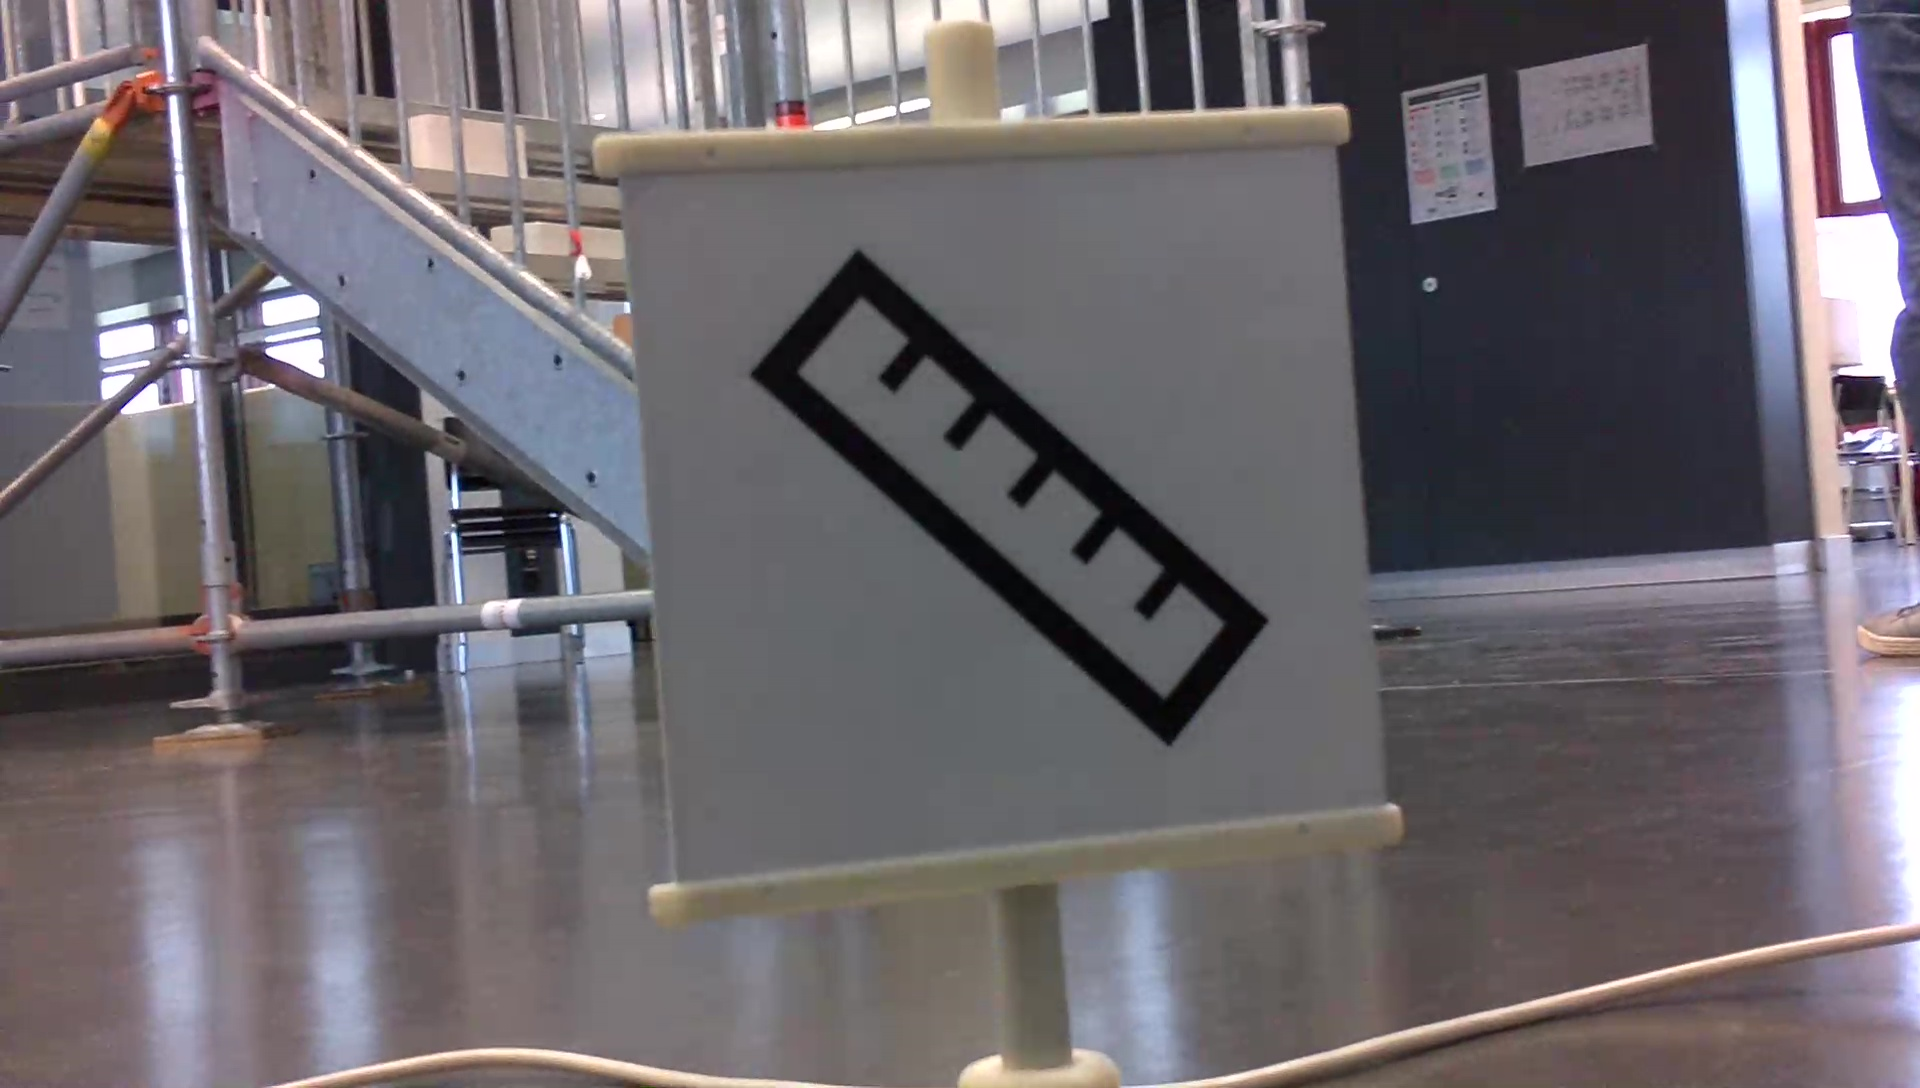ruler: (761, 244, 1276, 746)
